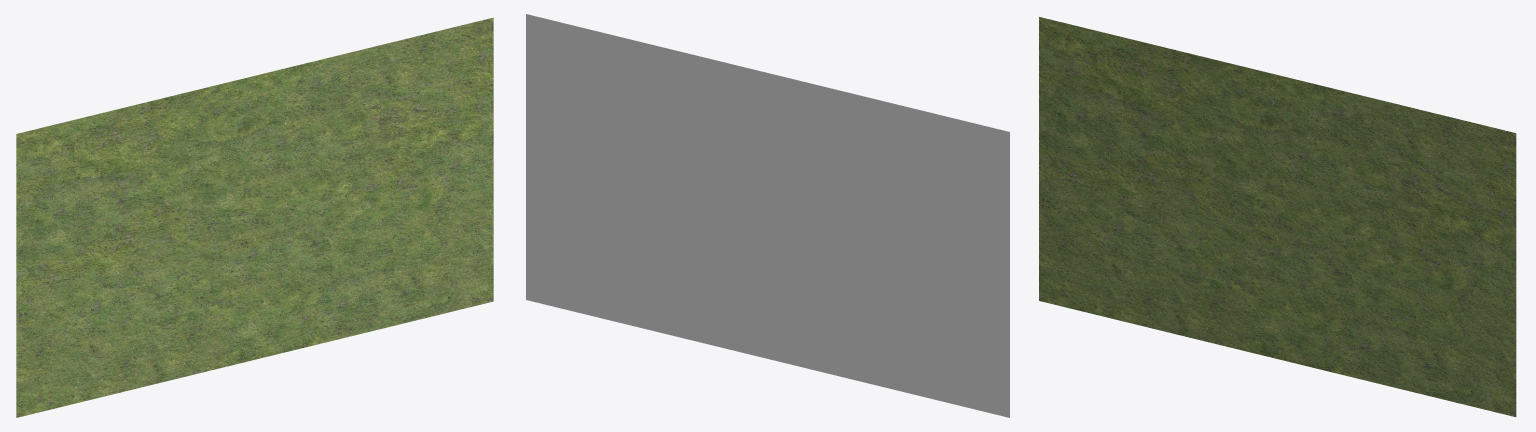
The model's file is video-area-espositiva.glb.
The picture shows the model from 3 angles, left to right: view 1: azimuth 30°, elevation 25°; view 2: azimuth 150°, elevation 25°; view 3: azimuth 330°, elevation 25°; orthographic projection.
Parts seen in each view (by area): view 1: Plane; view 2: Quad; view 3: Plane.
Boxes of the visible parts, box(x1,y1,x2,y2) form: Plane: box(16, 17, 493, 417); Quad: box(526, 14, 1009, 417); Plane: box(1039, 17, 1516, 416).
Size of the model in its own units: 1.08 by 0.6092 by 0.0026.
Materials: 2 (1 with a texture image).
